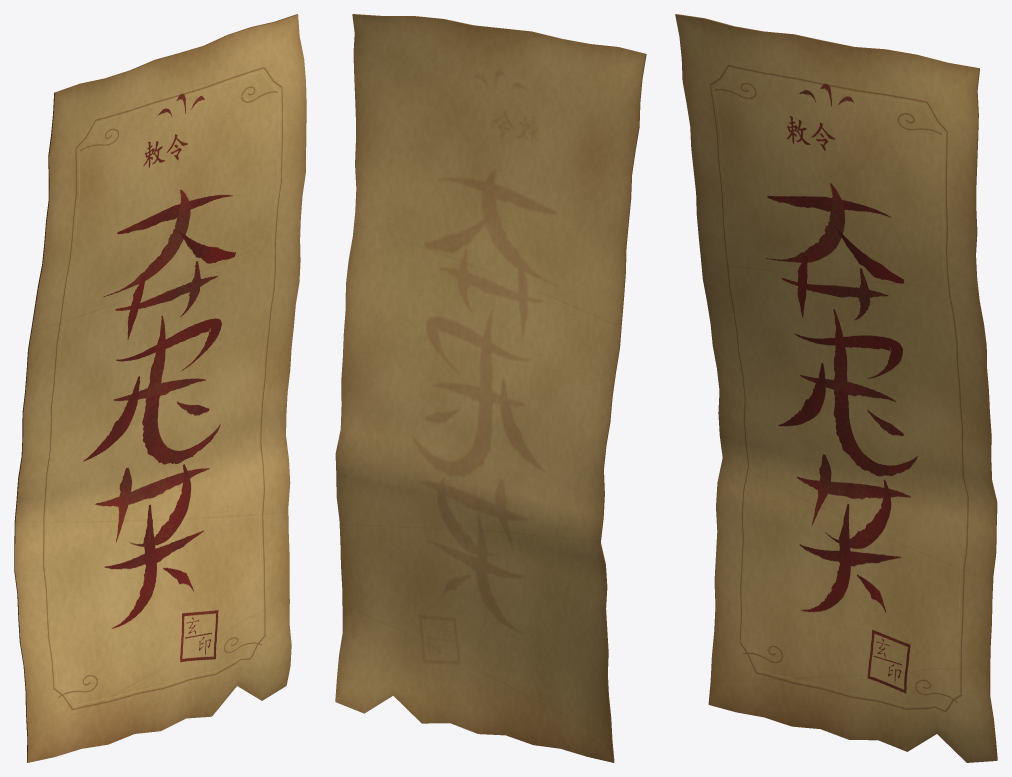
File: SM_Nilin_Talisman.glb
3 views of the same model, side by side, from view 1: azimuth 30°, elevation 25°; view 2: azimuth 150°, elevation 25°; view 3: azimuth 330°, elevation 25° (orthographic). The views are drawn at different scales.
Parts seen in each view (by area): view 1: SM_Nilin_Talisman; view 2: SM_Nilin_Talisman; view 3: SM_Nilin_Talisman.
Boxes of the visible parts, left/top/right/bottom form: SM_Nilin_Talisman: left=14, top=14, right=306, bottom=762; SM_Nilin_Talisman: left=335, top=14, right=646, bottom=762; SM_Nilin_Talisman: left=675, top=14, right=997, bottom=762.
Bounding box in the file's own units: 0.0662 × 0.1611 × 0.0183.
Materials: 1 (1 with a texture image).
